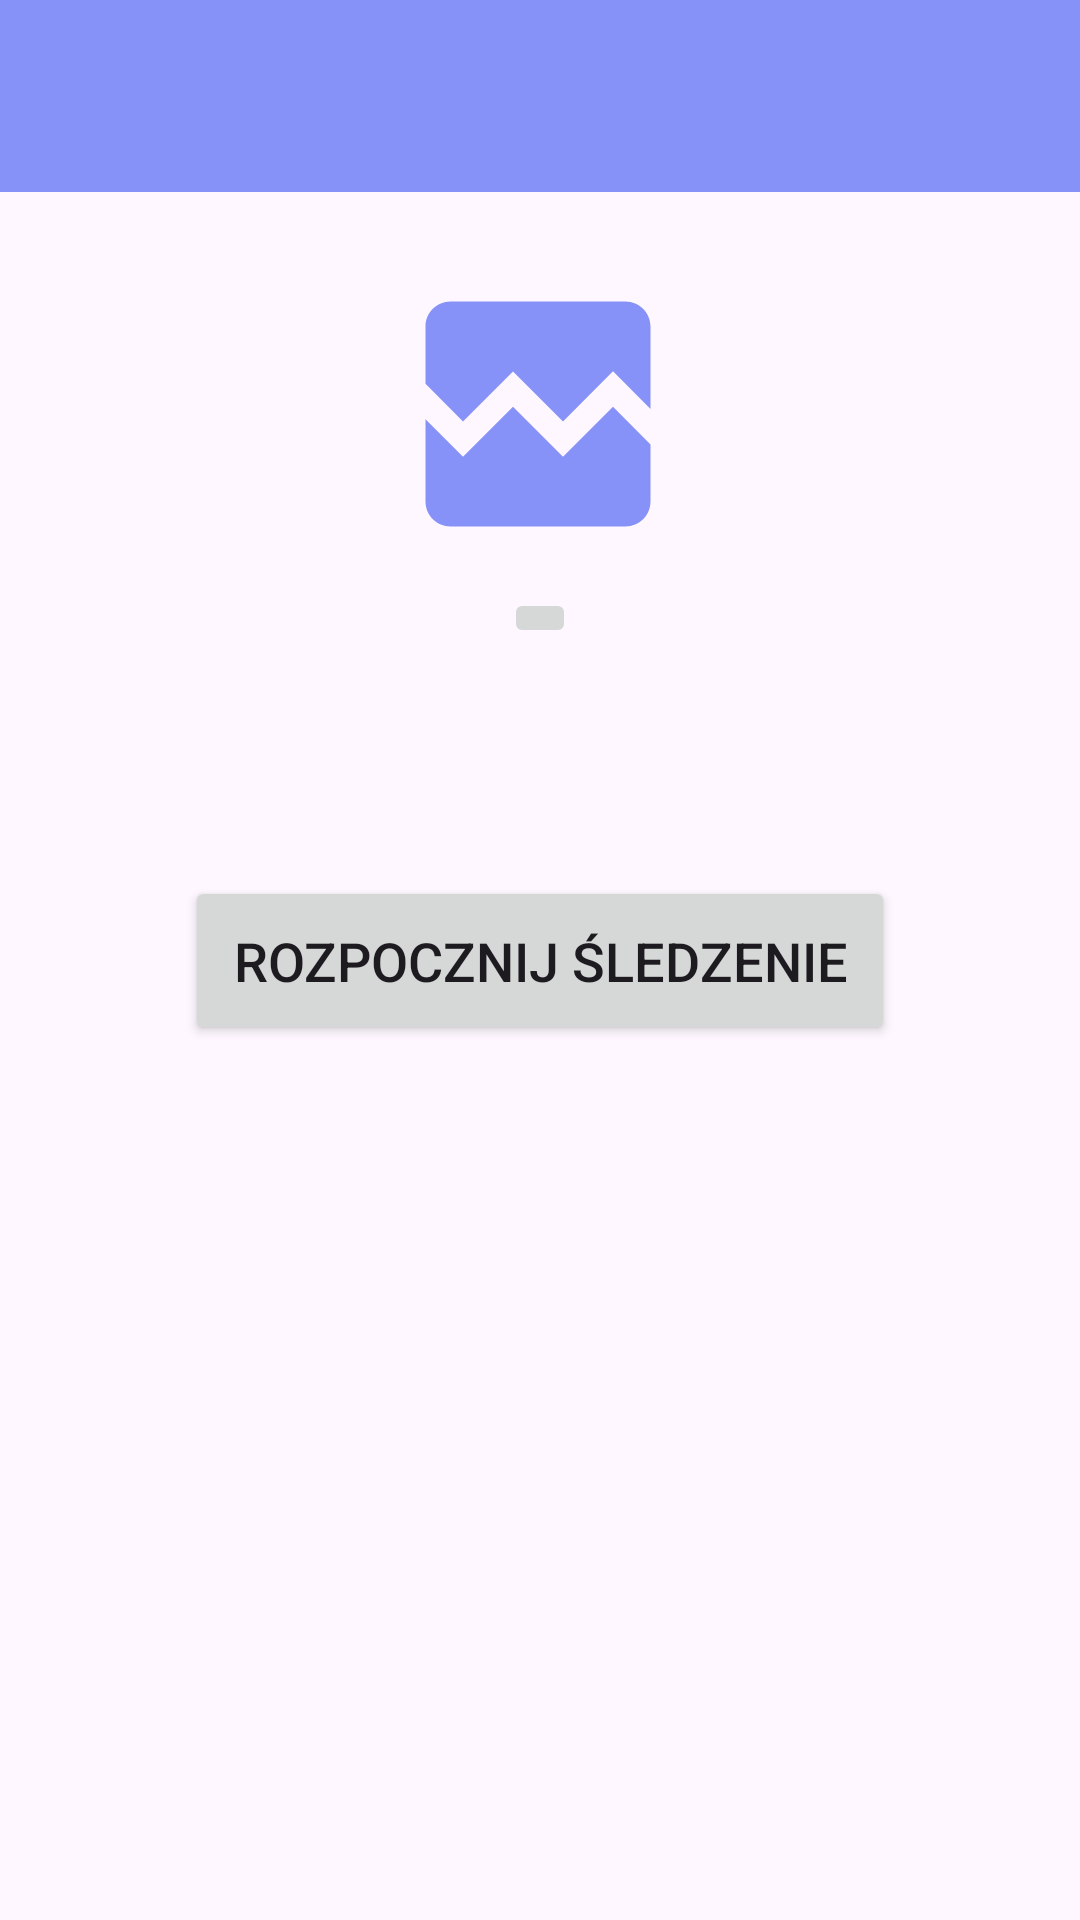

Locate icon controls on the screen. Image size 1080 × 1920, boxes as (x1,y1,x2,y2).
broken: (425,301,651,527)
